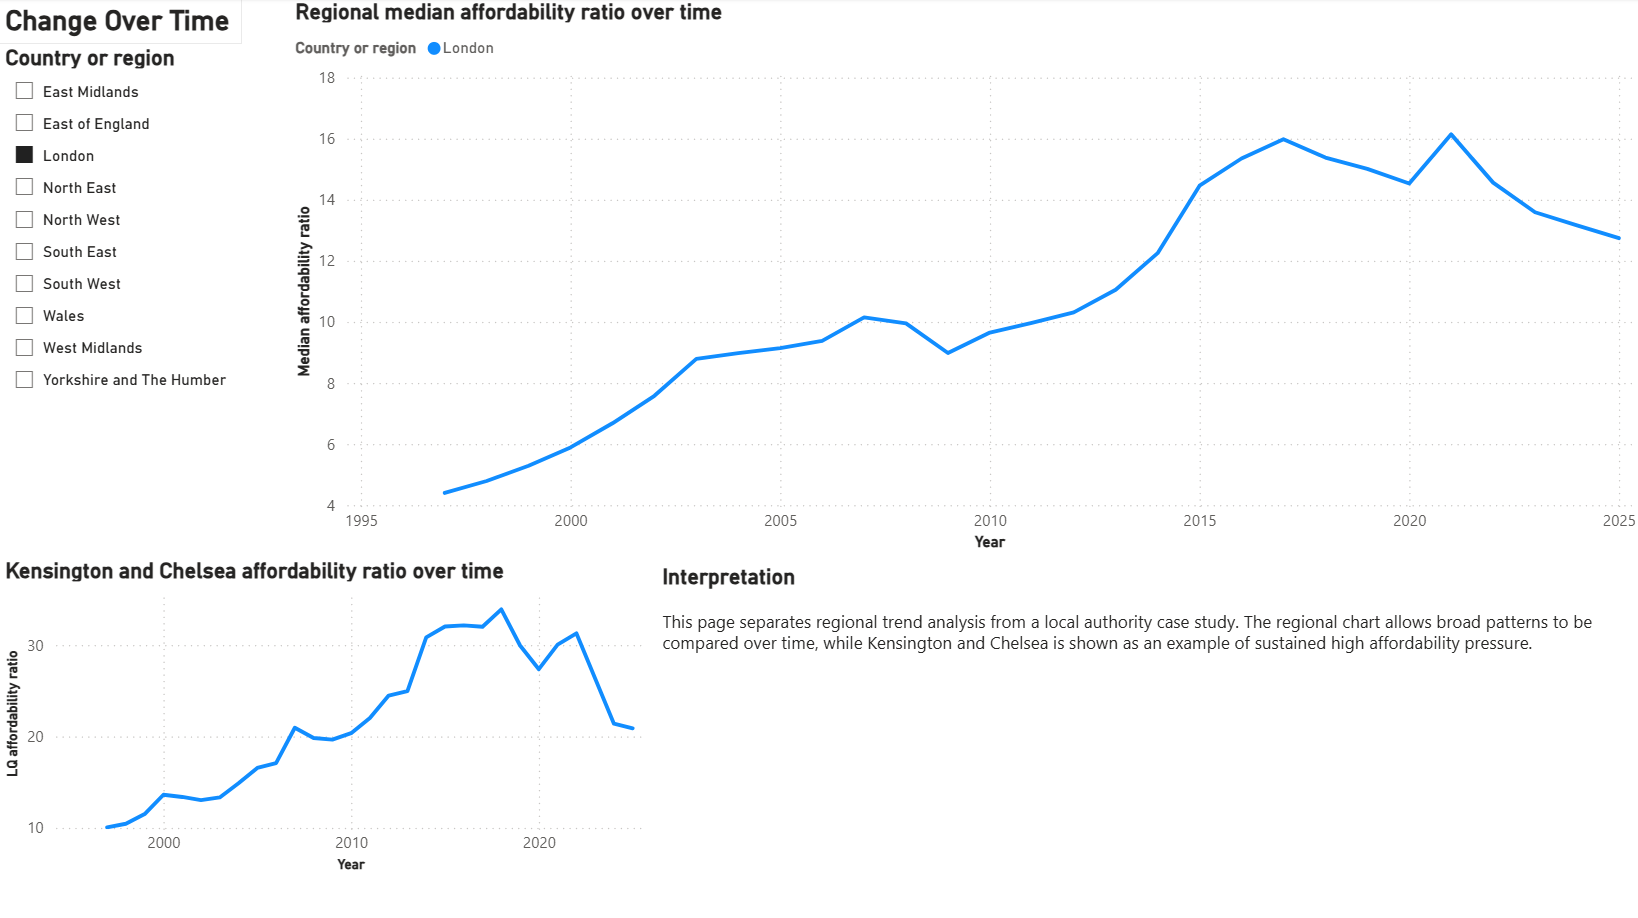

What the dashboard file says about the page in this screenshot:
{"tool":"powerbi","page":{"name":"Change Over Time","canvas":[1280,720],"ordinal":3},"visuals":[{"type":"textbox","box":[0,0,189.7,36],"z":0},{"type":"slicer","title":"Country or region","fields":{"Values":["affordability_area_year_cleaned.country_region_name"]},"box":[0,35.8,226,288.3],"z":1000},{"type":"lineChart","title":"Regional median affordability ratio over time","fields":{"Category":["affordability_area_year_cleaned.year"],"Y":["affordability_area_year_cleaned.Median LQ Affordability Ratio"],"Series":["affordability_area_year_cleaned.country_region_name"]},"box":[225.7,0,1054.3,435.5],"z":2000},{"type":"lineChart","title":"Kensington and Chelsea affordability ratio over time","fields":{"Category":["affordability_area_year_cleaned.year"],"Y":["Sum(affordability_area_year_cleaned.lower_quartile_affordability_ratio)"]},"box":[0,435.5,511.8,250.1],"z":3000},{"type":"textbox","box":[511.8,435.5,768.2,99.6],"z":4000}]}

Visuals, with their boxes in screenshot pixels (x1, y1, x2, y2), scaled from the page's 1280x720 canvas onto the 1638x918 screenshot:
textbox: x1=0, y1=0, x2=243, y2=46
"Country or region" slicer: x1=0, y1=46, x2=289, y2=413
"Regional median affordability ratio over time" lineChart: x1=289, y1=0, x2=1637, y2=555
"Kensington and Chelsea affordability ratio over time" lineChart: x1=0, y1=555, x2=655, y2=874
textbox: x1=655, y1=555, x2=1637, y2=682
